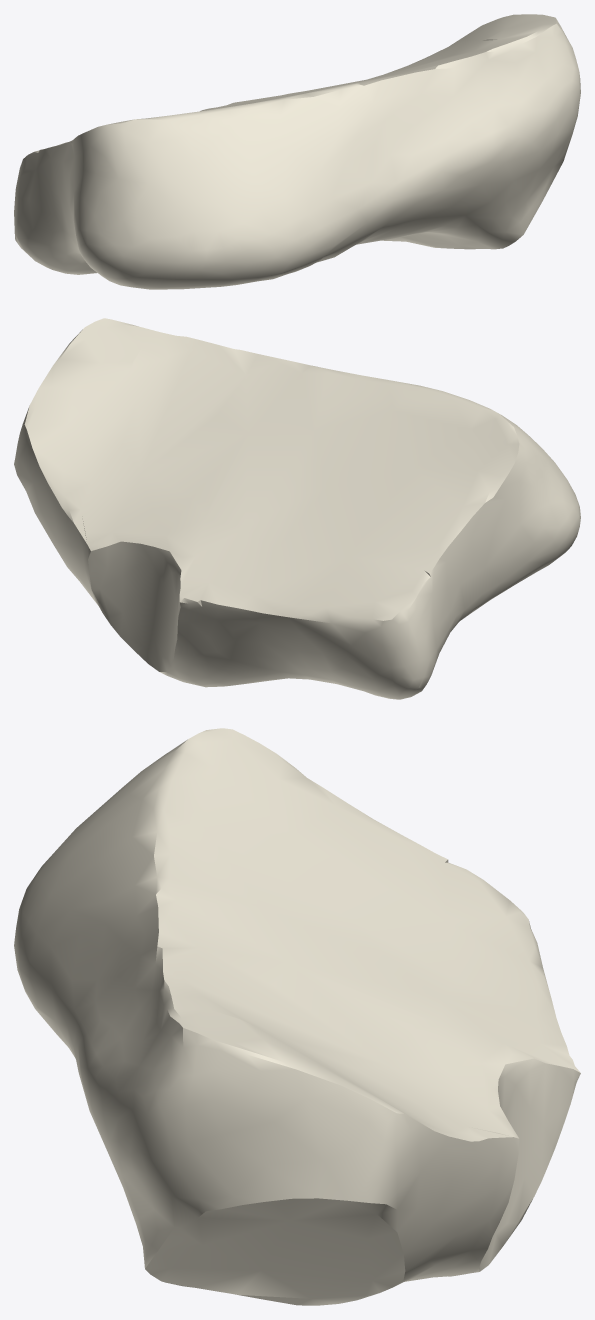
Rendered from fma35514_mm1900m.glb.
3 renders of one model, top to bottom at view 1: azimuth 30°, elevation 25°; view 2: azimuth 150°, elevation 25°; view 3: azimuth 270°, elevation 25°, orthographic. The views are drawn at different scales.
Parts seen in each view (by area): view 1: FMA35514_MM1900M; view 2: FMA35514_MM1900M; view 3: FMA35514_MM1900M.
Part boxes in pixels (<box>): FMA35514_MM1900M: <box>14,14,580,289</box>; FMA35514_MM1900M: <box>14,318,580,699</box>; FMA35514_MM1900M: <box>14,728,580,1305</box>.
Bounding box in the file's own units: 0.0314 × 0.0154 × 0.0212.
